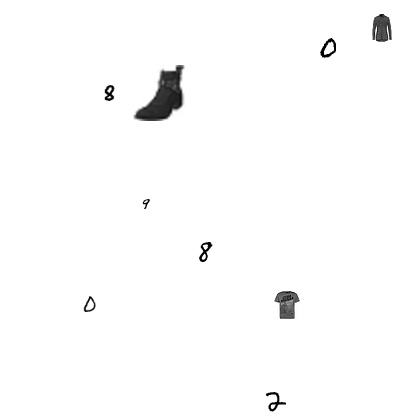0: (314, 34, 342, 62), (78, 294, 100, 316)
2: (260, 387, 288, 415)
8: (191, 237, 219, 265), (98, 82, 120, 104)
9: (139, 196, 153, 210)
Ankle_boot: (130, 65, 186, 121)
Shirt: (368, 14, 396, 42)
T-shirt/top: (273, 291, 301, 319)
